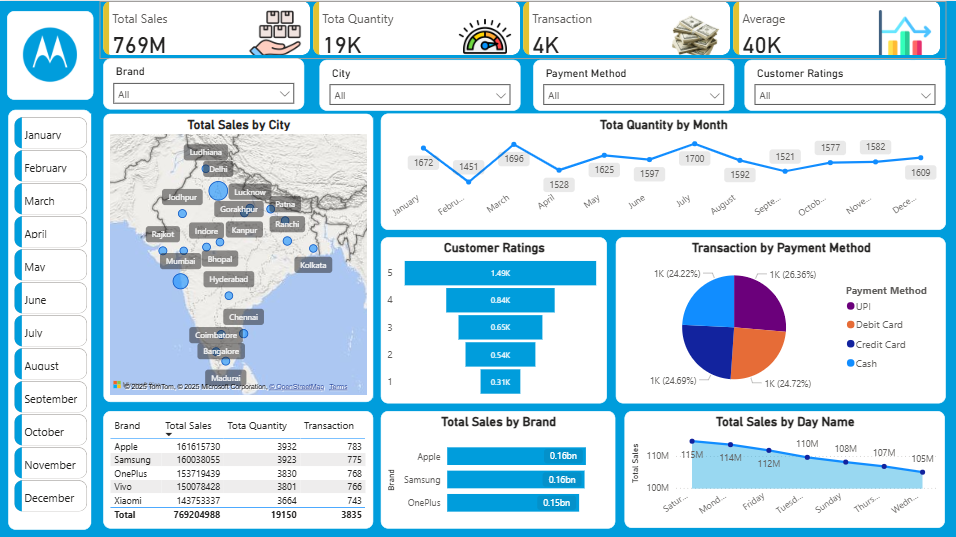

This screenshot's page, from the dashboard's own definition file:
{"tool":"powerbi","page":{"name":"Page 1","canvas":[1280,720],"ordinal":0},"visuals":[{"type":"shape","box":[13.3,13.3,115,118.3],"z":0},{"type":"shape","box":[15.7,144.3,110,560],"z":1000},{"type":"advancedSlicerVisual","fields":{"Values":["Sales Data.Date.Variation.Date Hierarchy.Month"]},"box":[18.6,150,107.1,547.1],"z":2000},{"type":"map","fields":{"Category":["Sales Data.City"],"Size":["Sales Data.Total Sales"]},"box":[141.7,150,360,385],"z":4000},{"type":"lineChart","fields":{"Category":["Sales Data.Date.Variation.Date Hierarchy.Month","Sales Data.Date.Variation.Date Hierarchy.Day"],"Y":["Sales Data.Tota Quantity"]},"box":[511.7,150,753.3,155],"z":5000},{"type":"clusteredBarChart","fields":{"Category":["Sales Data.Brand"],"Y":["Sales Data.Total Sales"]},"box":[511.4,547.1,312.9,157.1],"z":6000},{"type":"pieChart","fields":{"Category":["Sales Data.Payment Method"],"Y":["Sales Data.Transaction"]},"box":[824.3,314.3,440,221.4],"z":7000},{"type":"funnel","title":"Customer Ratings ","fields":{"Category":["Sales Data.Customer Ratings"],"Y":["CountNonNull(Sales Data.Customer Ratings)"]},"box":[511.4,314.3,301.4,221.4],"z":8000},{"type":"areaChart","fields":{"Category":["Sales Data.Day Name"],"Y":["Sales Data.Total Sales"]},"box":[837.1,547.1,427.1,155.7],"z":9000},{"type":"tableEx","fields":{"Values":["Sales Data.Brand","Sales Data.Total Sales","Sales Data.Tota Quantity","Sales Data.Transaction"]},"box":[141.7,546.7,360,156.7],"z":10000},{"type":"slicer","fields":{"Values":["Sales Data.Brand"]},"box":[141.7,76.7,268.3,68.3],"z":11000},{"type":"slicer","fields":{"Values":["Sales Data.City"]},"box":[430,78.3,268.3,68.3],"z":12000},{"type":"slicer","fields":{"Values":["Sales Data.Payment Method"]},"box":[715,78.3,268.3,68.3],"z":13000},{"type":"slicer","fields":{"Values":["Sales Data.Customer Ratings"]},"box":[996.7,78.3,268.3,68.3],"z":14000},{"type":"image","box":[6.7,13.3,118.3,118.3],"z":15000},{"type":"cardVisual","fields":{"Data":["Sales Data.Total Sales","Sales Data.Tota Quantity","Sales Data.Transaction","Sales Data.Average"]},"box":[148.3,13.3,1116.7,60],"z":18000}]}

Visuals, with their boxes in screenshot pixels (x1, y1, x2, y2), scaled from the page's 1280x720 canvas onto the 956x537 screenshot:
shape: box=[10, 10, 96, 98]
shape: box=[12, 108, 94, 525]
advancedSlicerVisual - Sales Data.Date.Variation.Date Hierarchy.Month: box=[14, 112, 94, 520]
map - Sales Data.City x Sales Data.Total Sales: box=[106, 112, 375, 399]
lineChart - Sales Data.Date.Variation.Date Hierarchy.Month x Sales Data.Date.Variation.Date Hierarchy.Day: box=[382, 112, 945, 227]
clusteredBarChart - Sales Data.Brand x Sales Data.Total Sales: box=[382, 408, 616, 525]
pieChart - Sales Data.Payment Method x Sales Data.Transaction: box=[616, 234, 944, 400]
"Customer Ratings " funnel: box=[382, 234, 607, 400]
areaChart - Sales Data.Day Name x Sales Data.Total Sales: box=[625, 408, 944, 524]
tableEx - Sales Data.Brand x Sales Data.Total Sales: box=[106, 408, 375, 525]
slicer - Sales Data.Brand: box=[106, 57, 306, 108]
slicer - Sales Data.City: box=[321, 58, 522, 109]
slicer - Sales Data.Payment Method: box=[534, 58, 734, 109]
slicer - Sales Data.Customer Ratings: box=[744, 58, 945, 109]
image: box=[5, 10, 93, 98]
cardVisual - Sales Data.Total Sales x Sales Data.Tota Quantity: box=[111, 10, 945, 55]
